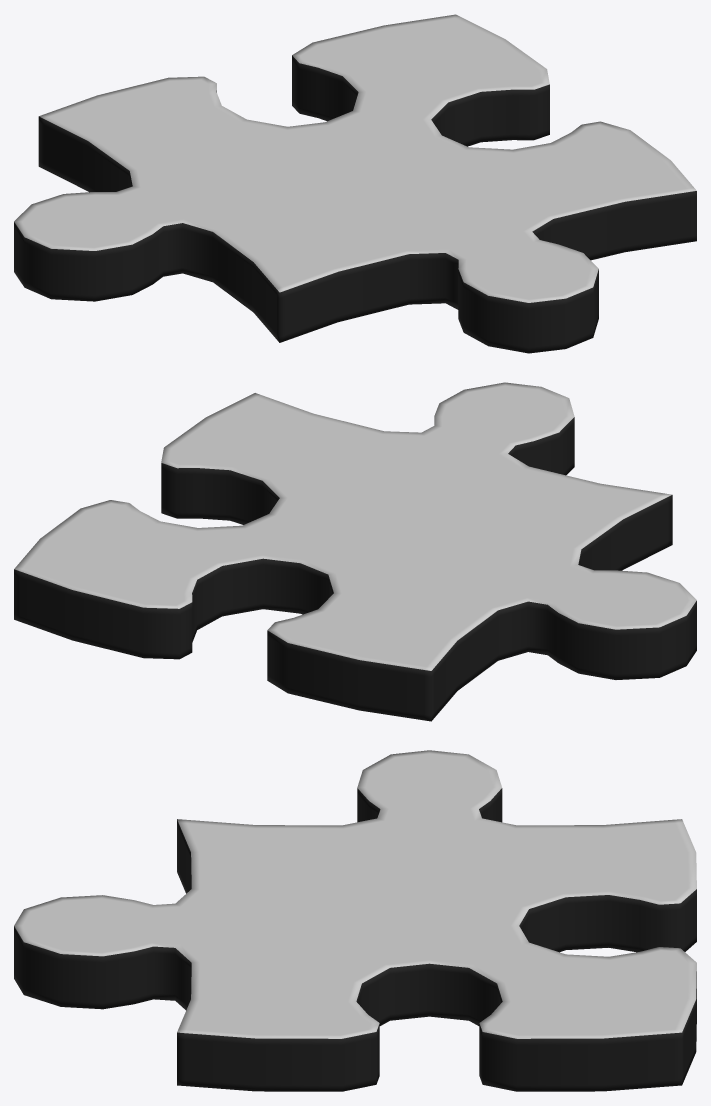
The model's file is puzzle45.fbx.
3 views of the same model, one above another, from view 1: azimuth 30°, elevation 25°; view 2: azimuth 150°, elevation 25°; view 3: azimuth 270°, elevation 25° (orthographic). The views are drawn at different scales.
Visible parts, largest first — view 1: puzzle45; view 2: puzzle45; view 3: puzzle45.
Part boxes in pixels (x1=…): puzzle45: x1=14, y1=14, x2=696, y2=353; puzzle45: x1=14, y1=382, x2=696, y2=721; puzzle45: x1=14, y1=750, x2=696, y2=1091.
Bounding box in the file's own units: 4.03 × 0.344 × 4.03.
